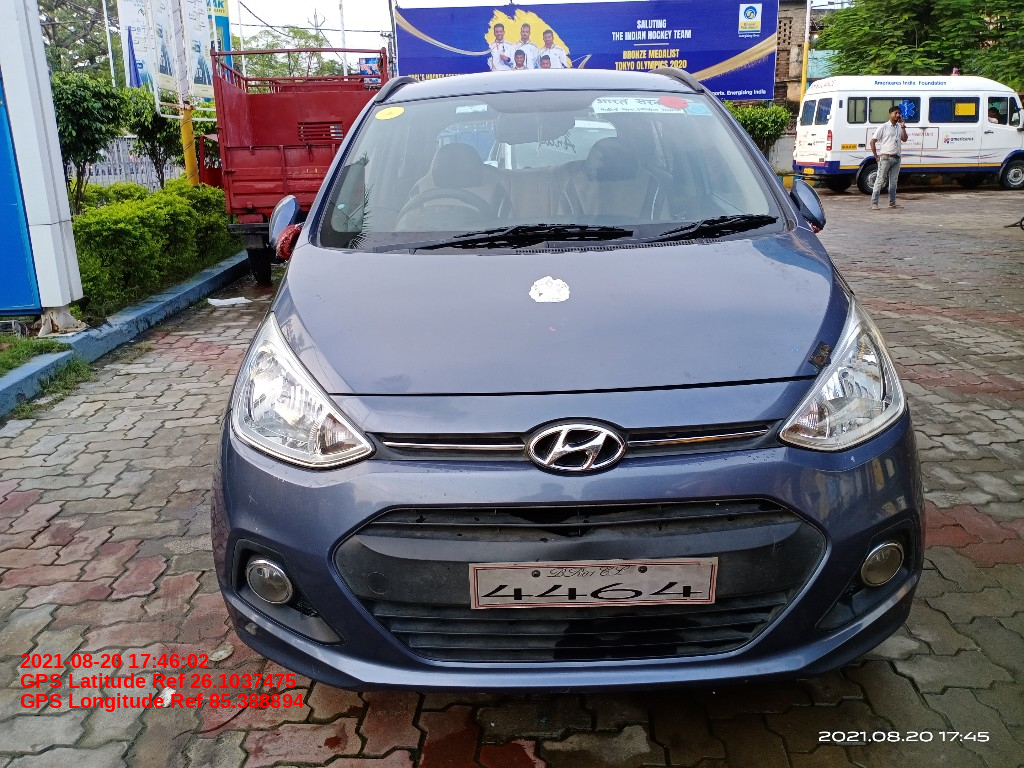Broken: (794, 333, 838, 376)
Pressed: (496, 497, 677, 566)
Scratched: (522, 273, 585, 308), (243, 491, 262, 508)
